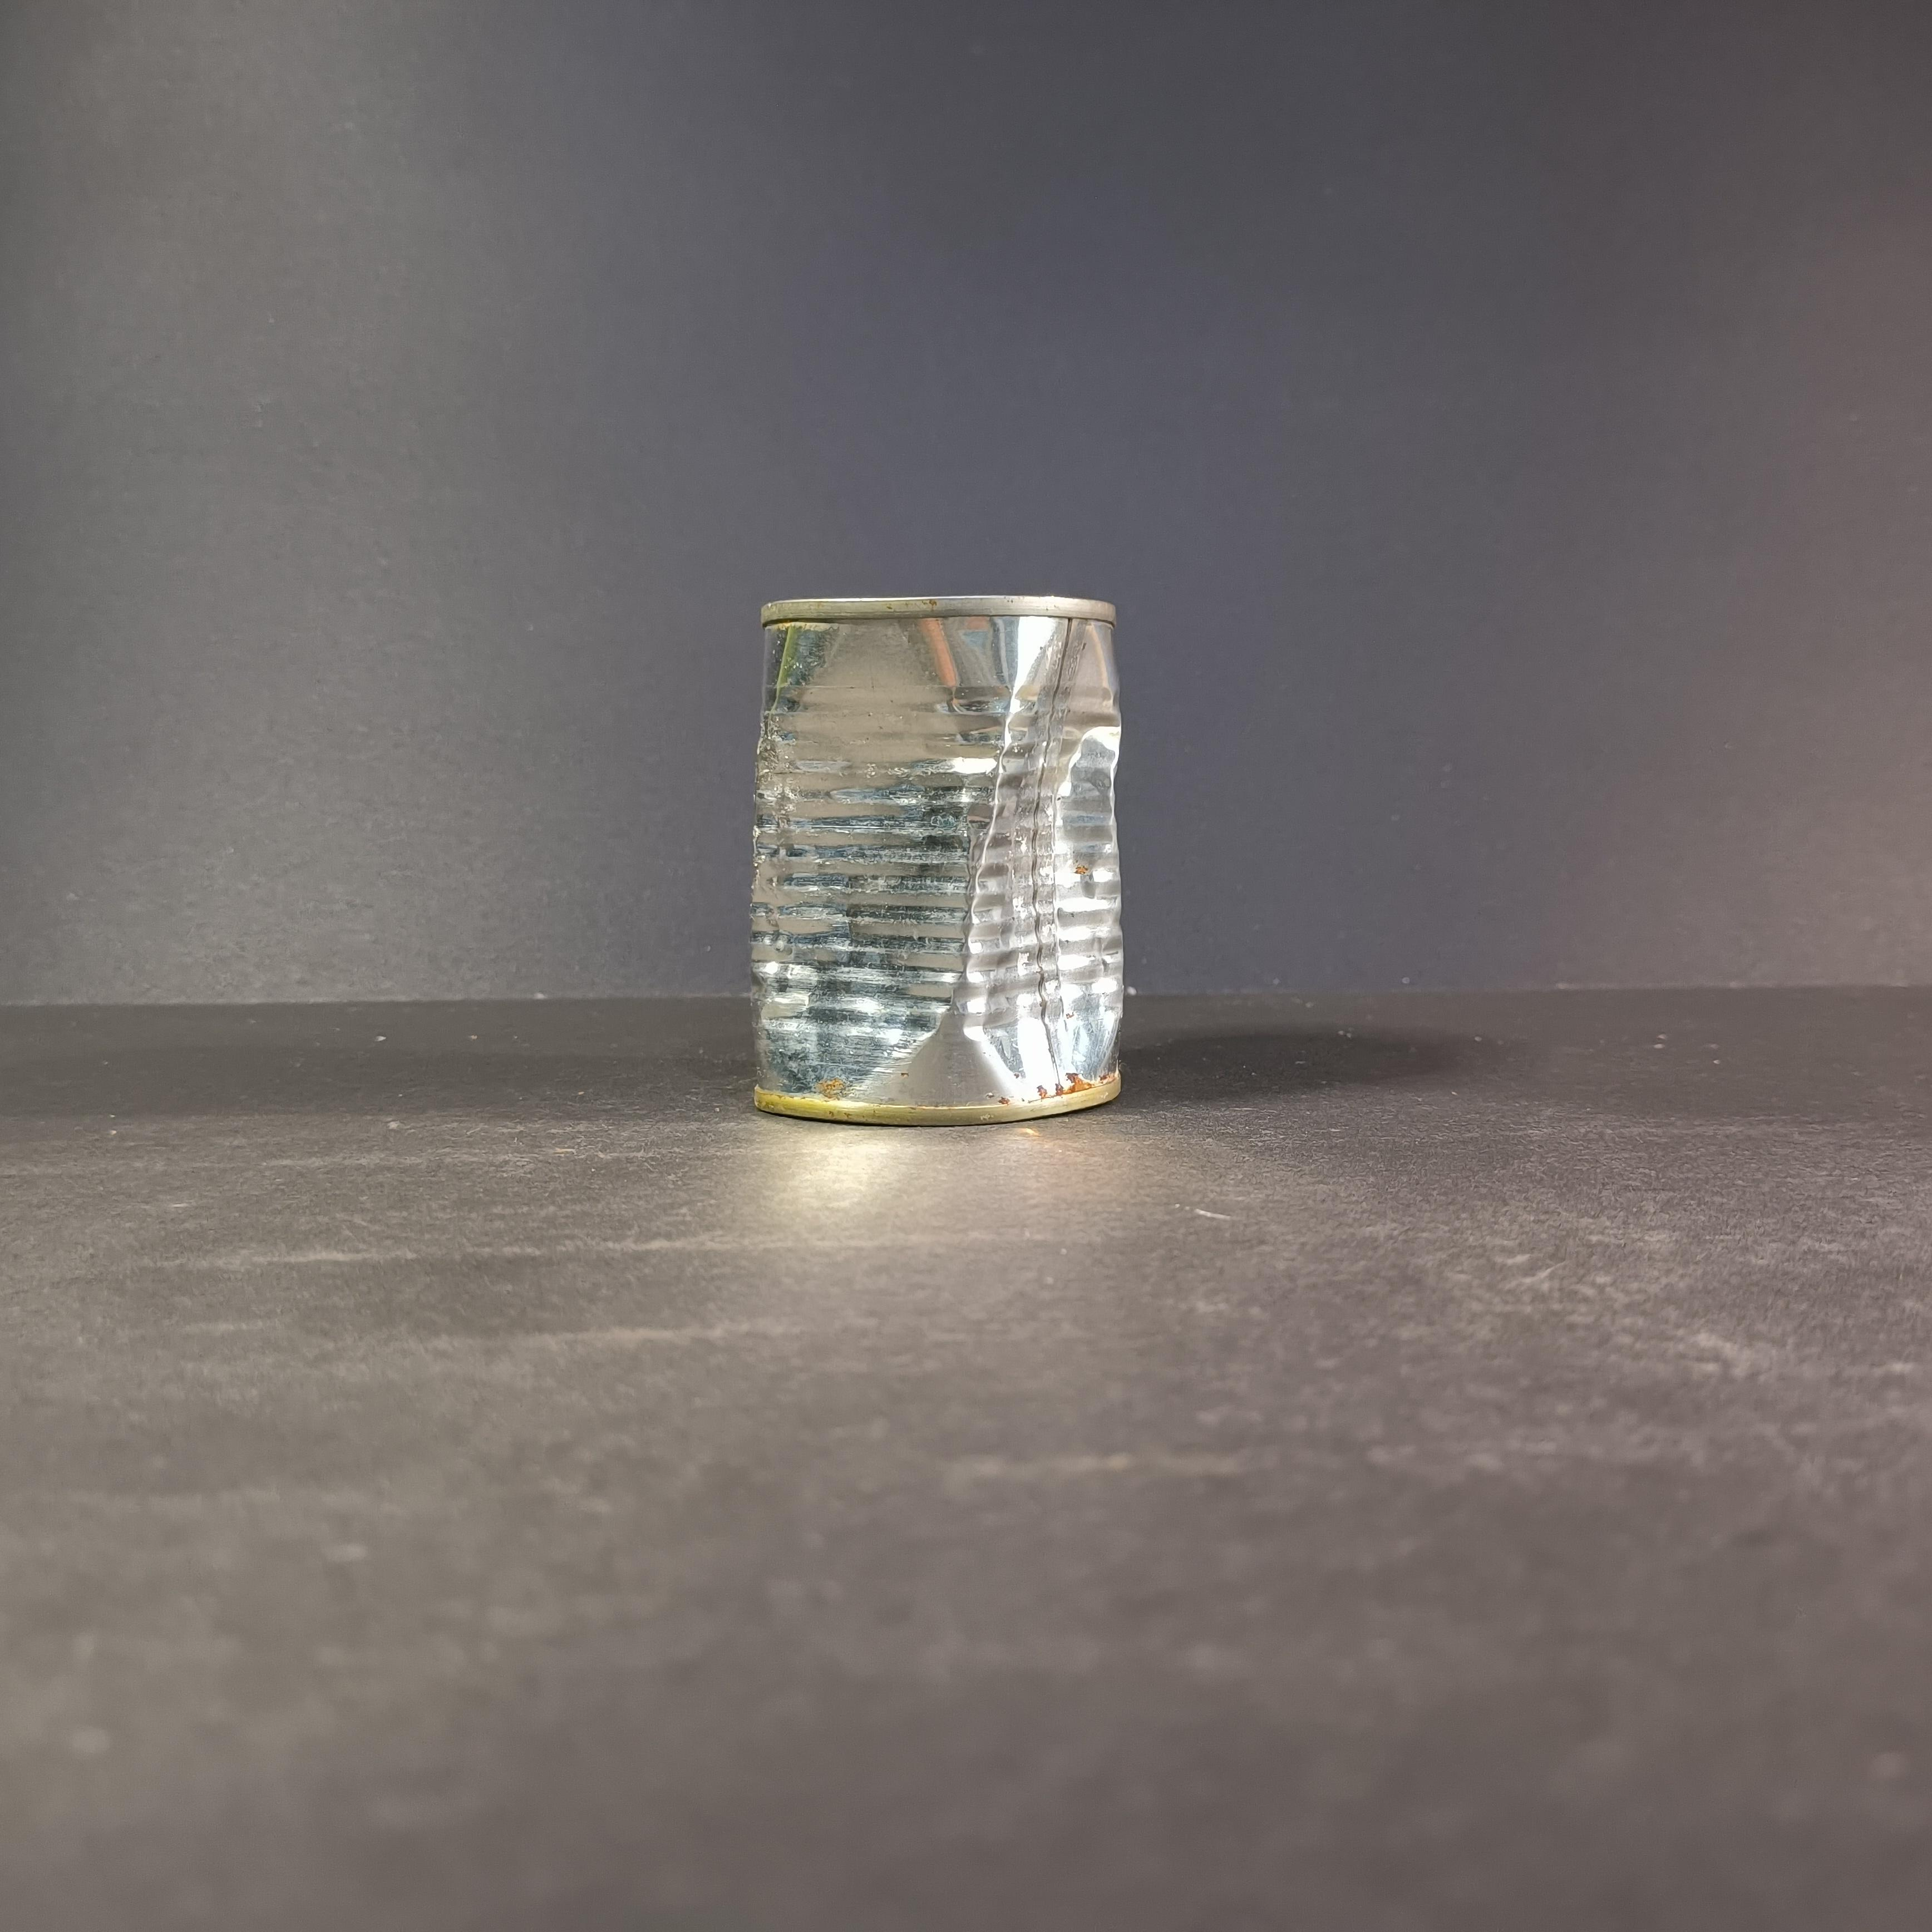Dented: (715, 554, 1171, 1161)
